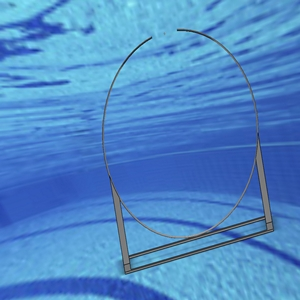circle: (100, 26, 274, 275)
